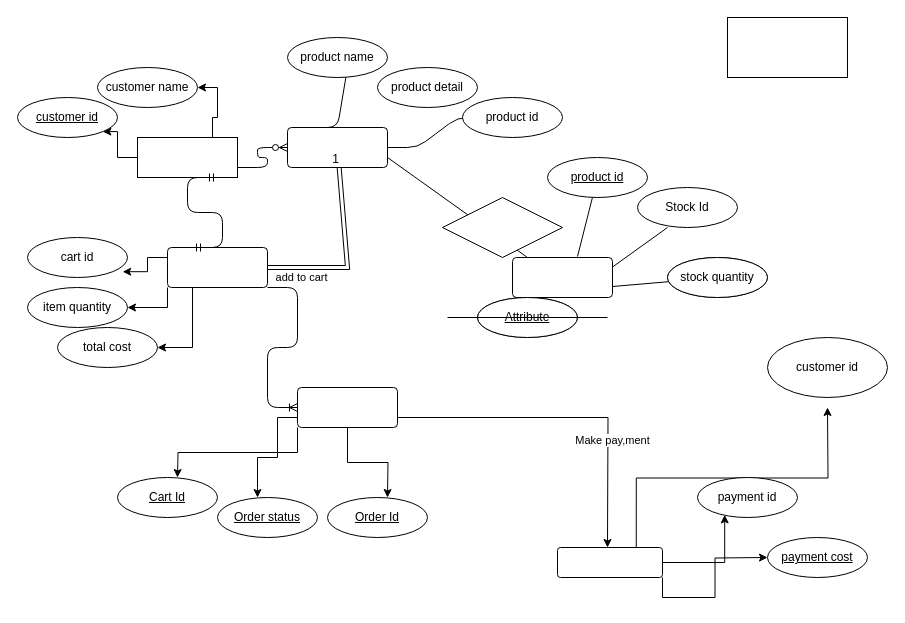
This 905x623 diagram has some shape labels left out. Each missing label, with the centre of its shape:
"Customer" goes at (187,157).
"has" goes at (502,227).
"Made by Nikunj Gupta Shubham gupta" goes at (787,47).
"Order" goes at (347,407).
"payment" goes at (609,562).
"Product" goes at (337,147).
"product stock" goes at (562,277).
"shopping cart" goes at (217,267).
